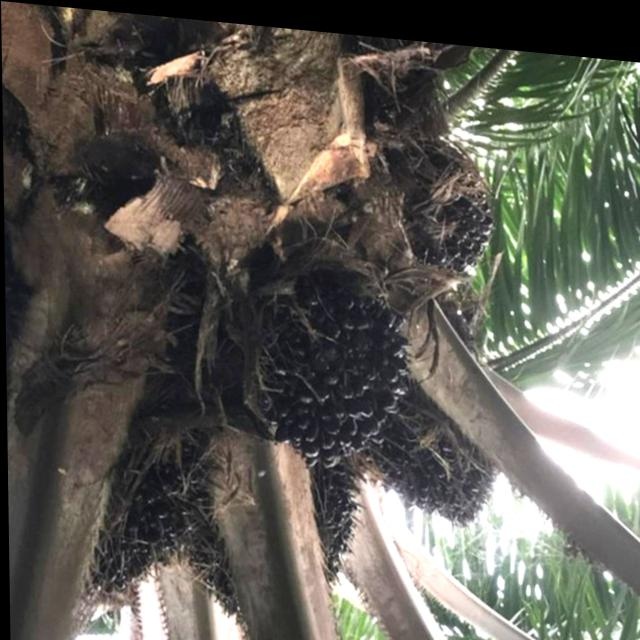almost: (213, 265, 414, 473), (189, 452, 356, 639), (77, 424, 205, 602), (359, 385, 498, 524), (386, 131, 498, 274)
